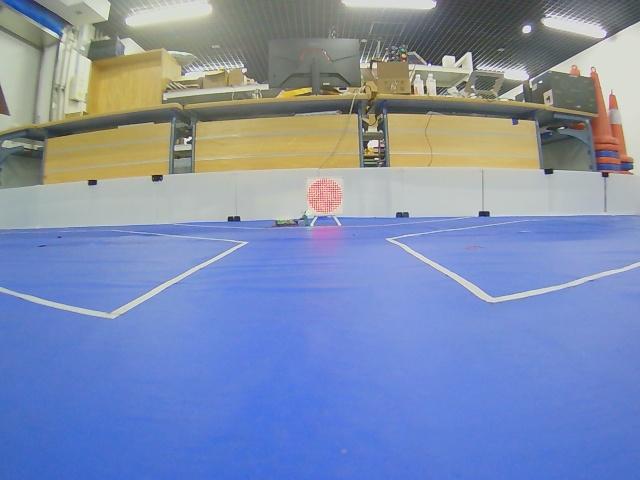red: (307, 178, 343, 215)
